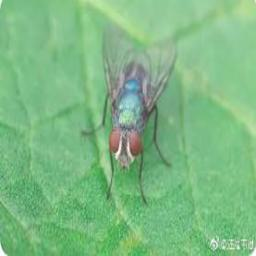liriomyza: (79, 24, 177, 206)
